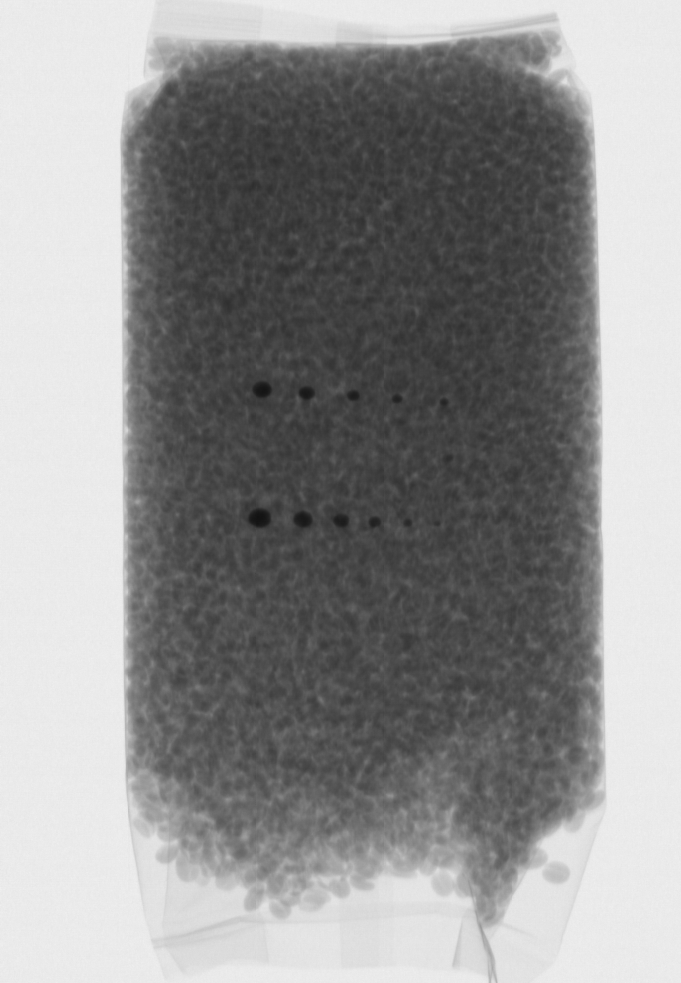glass: (242, 502, 274, 531), (290, 505, 314, 530), (253, 379, 275, 399), (298, 386, 319, 403), (330, 512, 350, 528), (344, 385, 359, 403), (366, 516, 381, 531), (400, 515, 416, 529), (437, 394, 451, 409), (390, 391, 402, 407)
glass_area: (240, 369, 465, 425), (230, 491, 430, 545)
